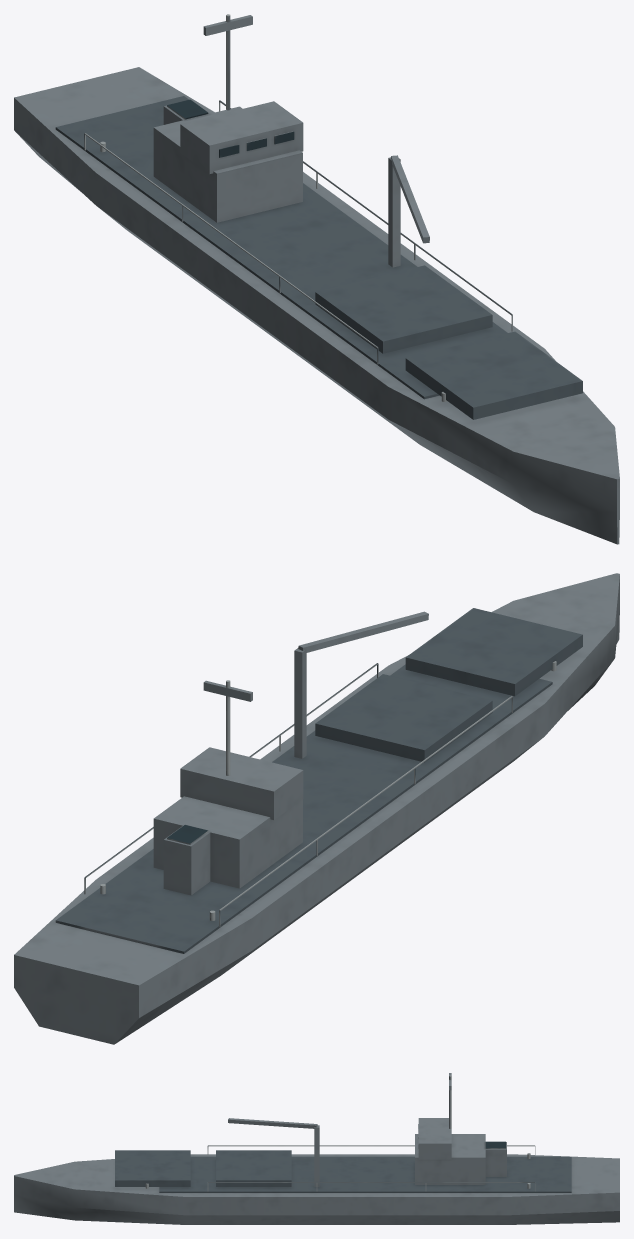
Rendered from naval-supply-ship.fbx.
3 views of the same model, one above another, from view 1: azimuth 30°, elevation 25°; view 2: azimuth 150°, elevation 25°; view 3: azimuth 270°, elevation 25° (orthographic). The views are drawn at different scales.
Parts seen in each view (by area): view 1: naval-supply-ship; view 2: naval-supply-ship; view 3: naval-supply-ship.
Boxes of the visible parts, left/top/right/bottom form: naval-supply-ship: left=14, top=14, right=619, bottom=544; naval-supply-ship: left=14, top=573, right=619, bottom=1044; naval-supply-ship: left=14, top=1073, right=619, bottom=1224.
Size of the model in its own units: 40 by 59.5 by 240.
1 material, 1 textured.
